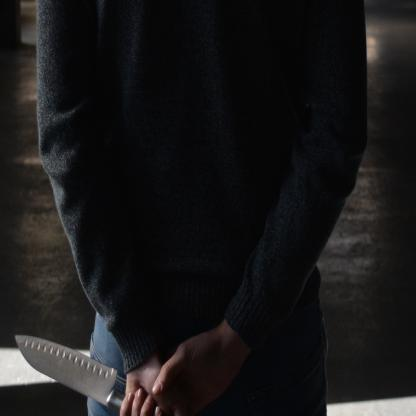knife: (9, 325, 180, 415)
